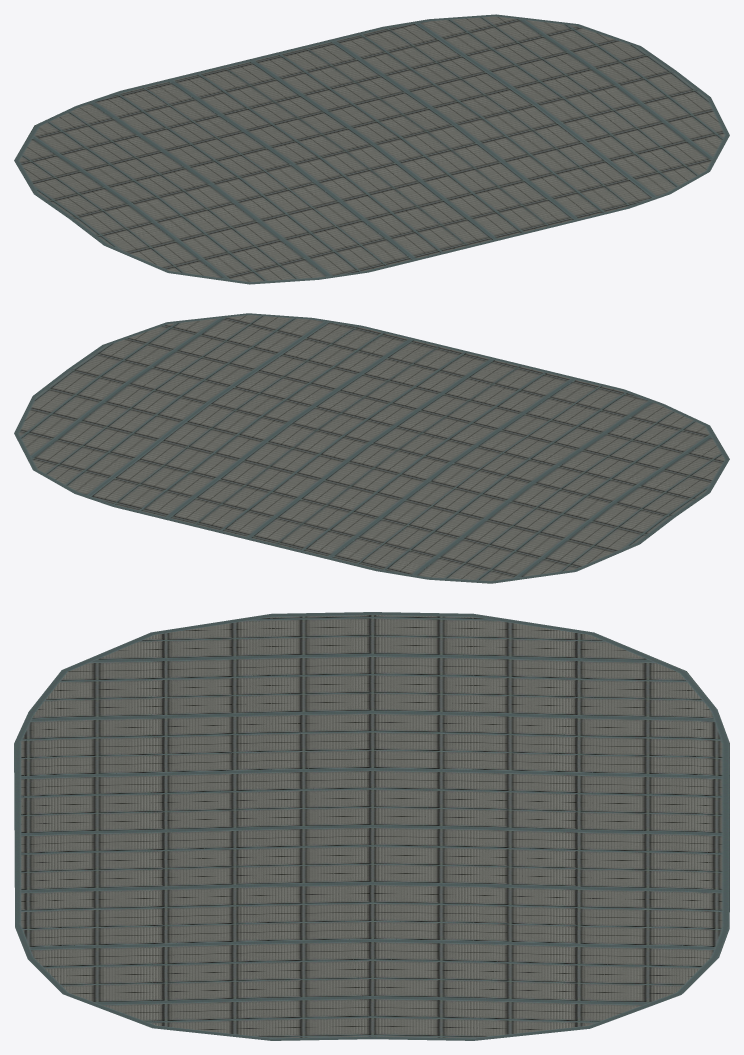
The model's file is Roof_Ufa.FBX.
3 views of the same model, one above another, from view 1: azimuth 30°, elevation 25°; view 2: azimuth 150°, elevation 25°; view 3: azimuth 270°, elevation 25° (orthographic). The views are drawn at different scales.
Visible parts, largest first — view 1: Roof_Ufa; view 2: Roof_Ufa; view 3: Roof_Ufa.
Part boxes in pixels (x1,y1,x2,y2): Roof_Ufa: [14, 14, 729, 284]; Roof_Ufa: [14, 313, 729, 583]; Roof_Ufa: [14, 612, 729, 1040].
Bounding box in the file's own units: 103 × 0.9156 × 72.7.
Materials: 1 (1 with a texture image).
